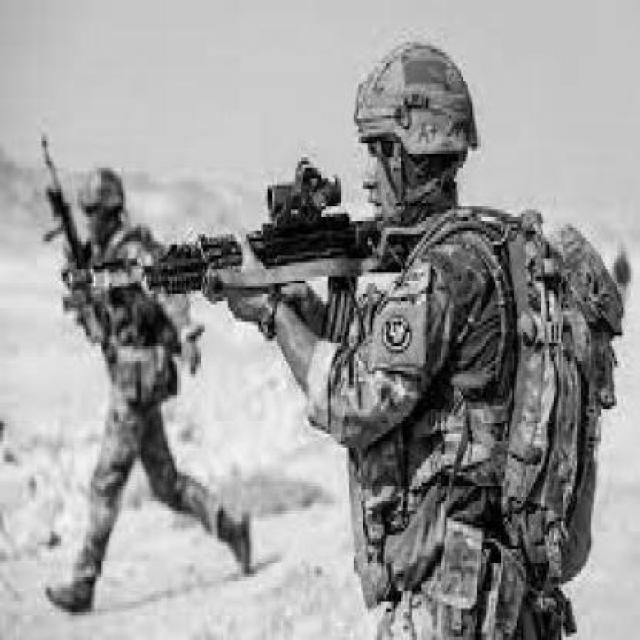Person: (224, 35, 626, 638), (44, 163, 252, 612)
